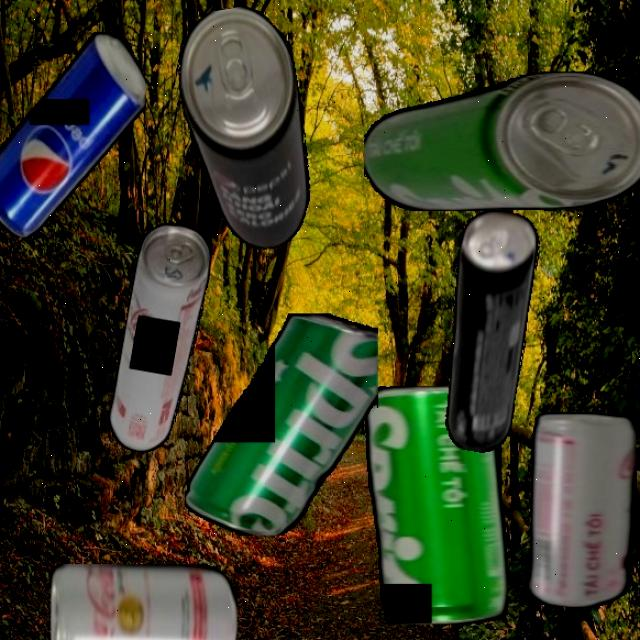debris: (185, 312, 378, 536), (168, 0, 325, 258), (363, 72, 640, 211), (366, 385, 508, 624), (426, 204, 548, 456), (0, 30, 146, 237), (105, 219, 216, 457), (529, 411, 637, 607), (49, 563, 238, 640)
